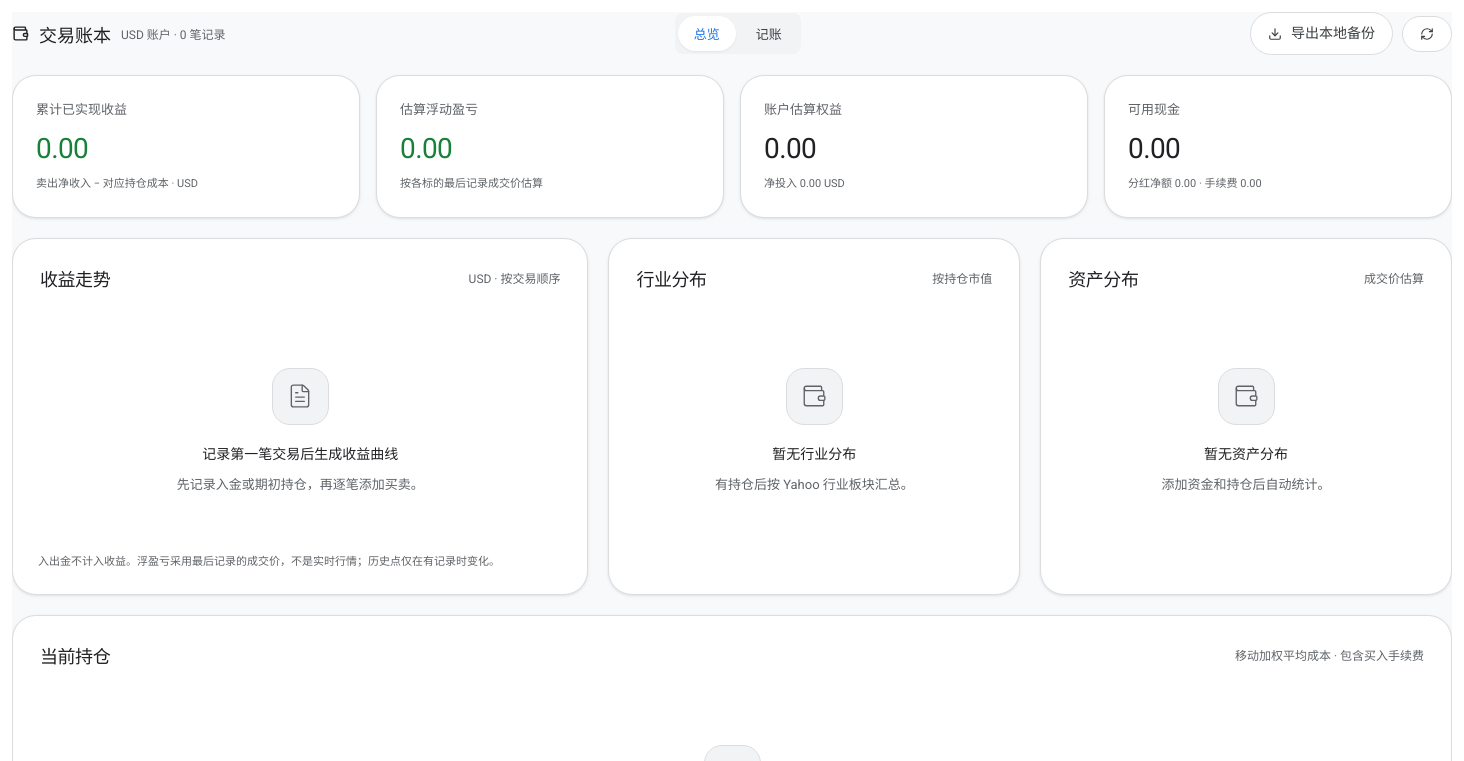
Test case: records a cash deposit and immediately displays its journal and chart
The image size is (1464, 761).
Step 1. Click the tab "记账" → {"x": 769, "y": 34}, box x1=740 y1=16 x2=798 y2=51
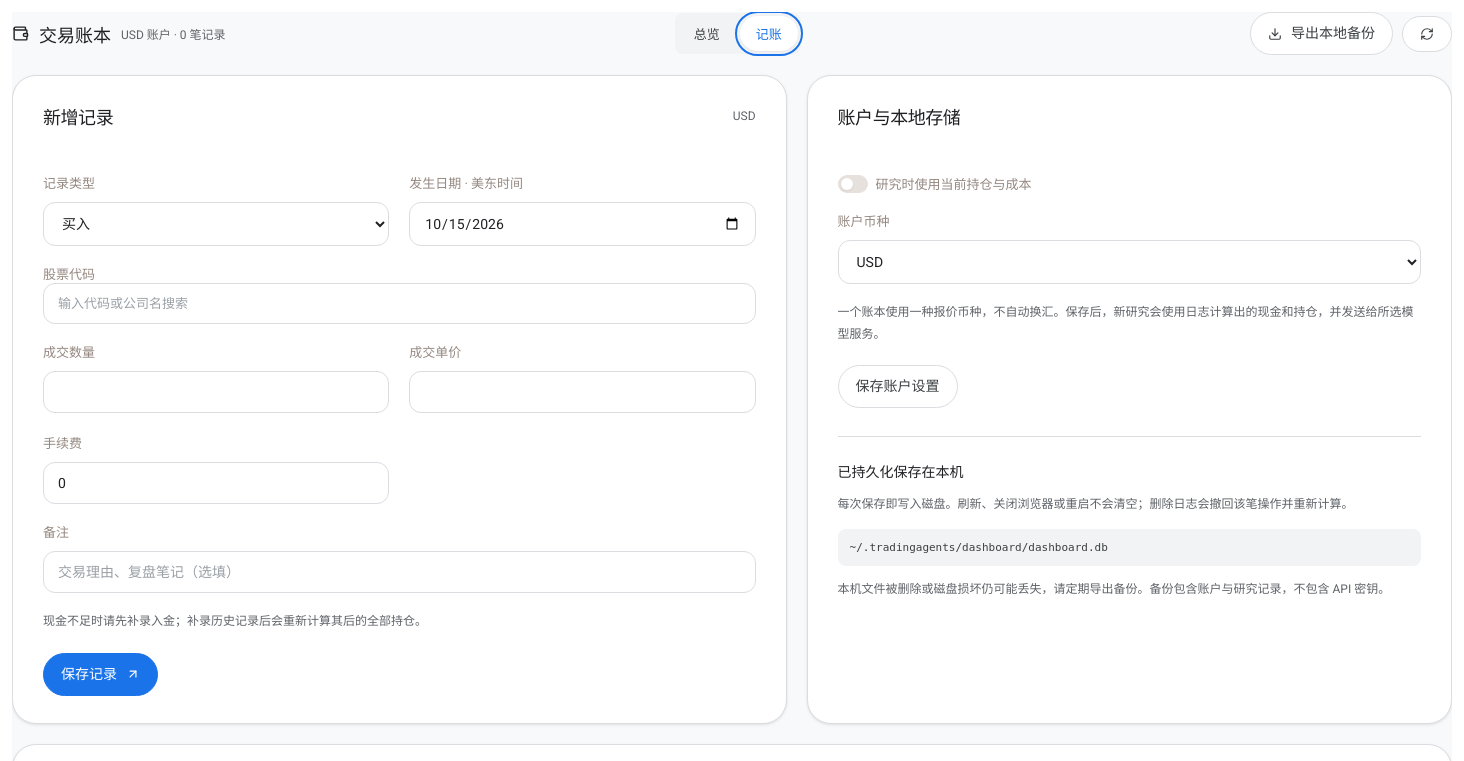
Step 2. Select "入金" in the dropdown labelled "记录类型" → {"x": 216, "y": 224}, box x1=43 y1=202 x2=389 y2=246
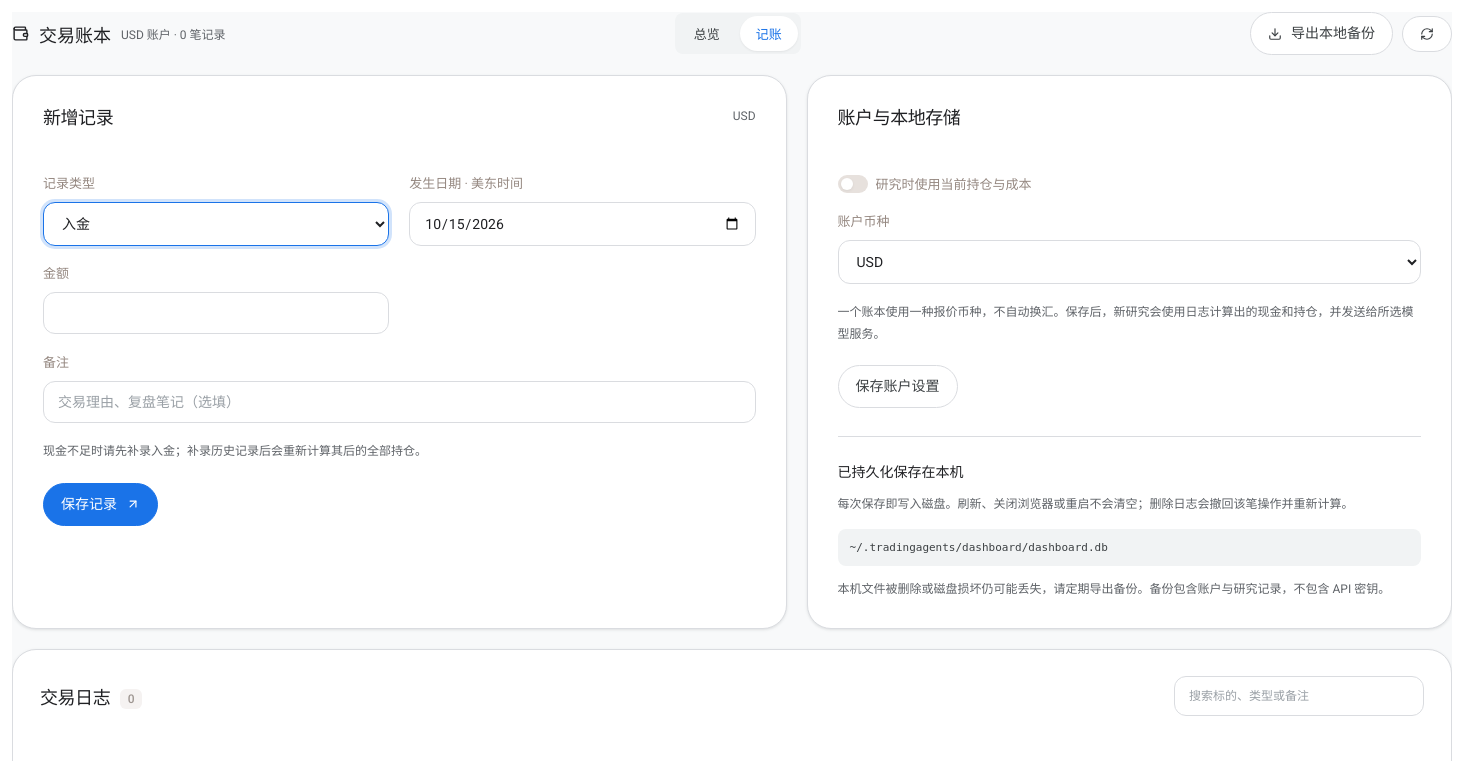
Step 3. Type "1000" into the number field labelled "金额" → {"x": 216, "y": 313}, box x1=43 y1=292 x2=389 y2=334
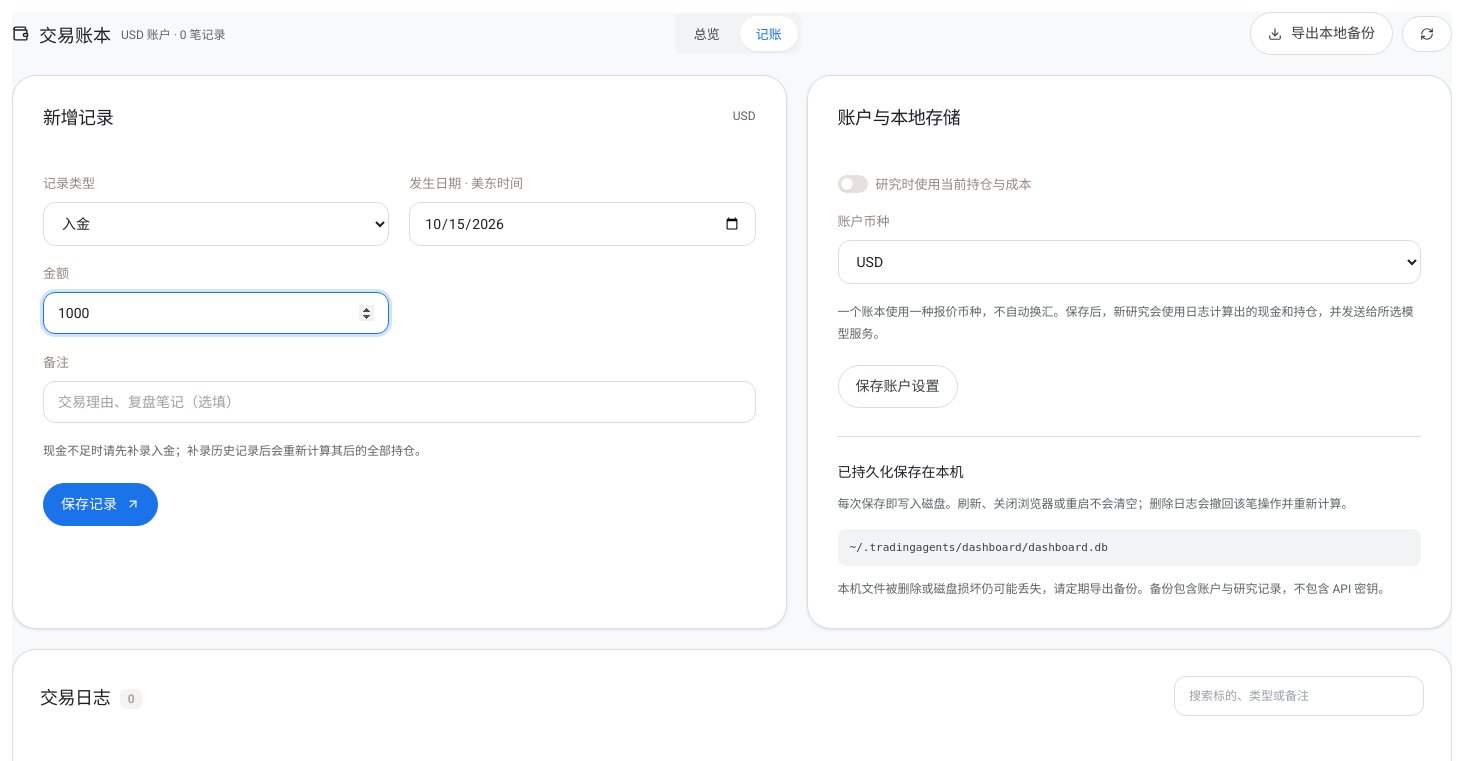
Step 4. Click the button "保存记录" → {"x": 100, "y": 504}, box x1=43 y1=483 x2=158 y2=526
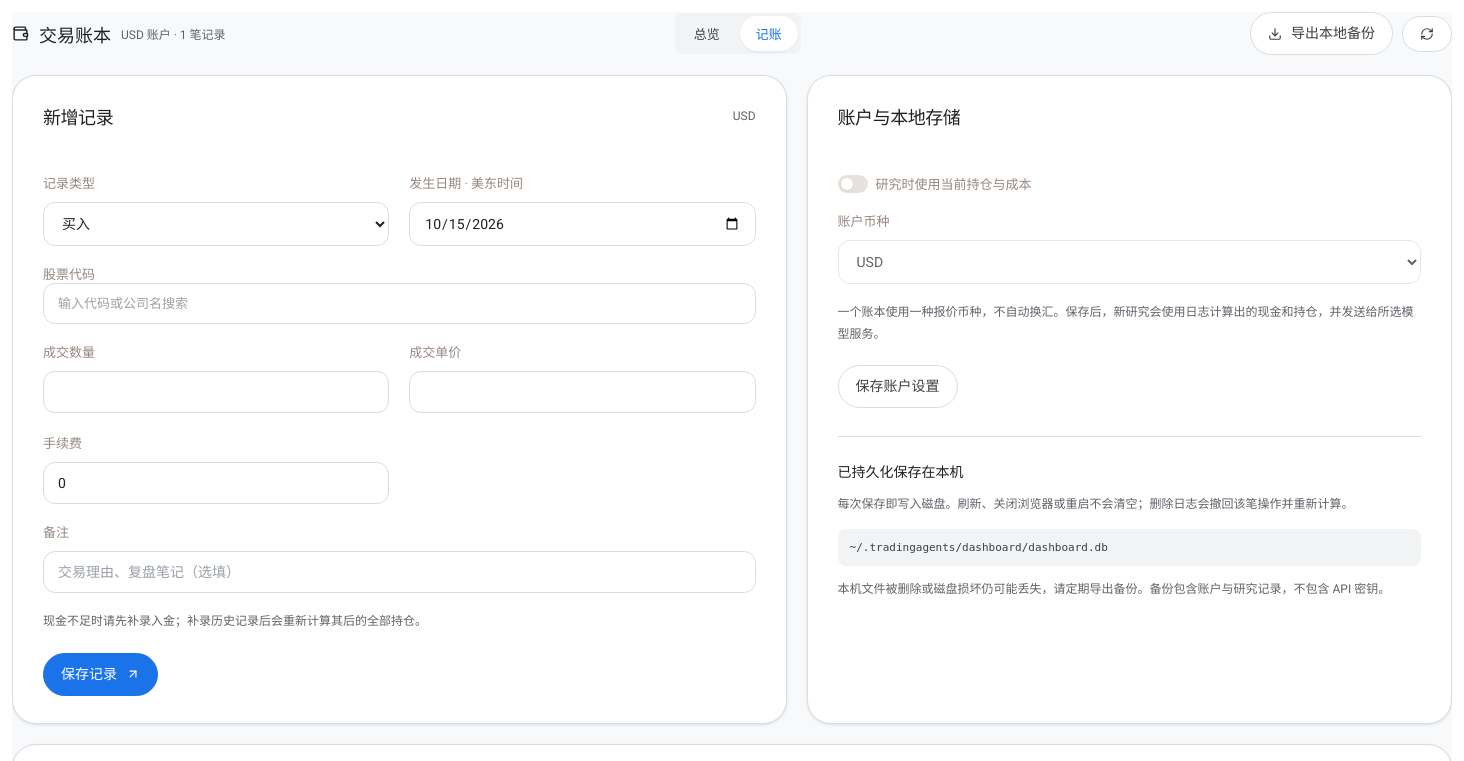
Step 5. Click the tab "总览" → {"x": 707, "y": 34}, box x1=678 y1=16 x2=736 y2=51
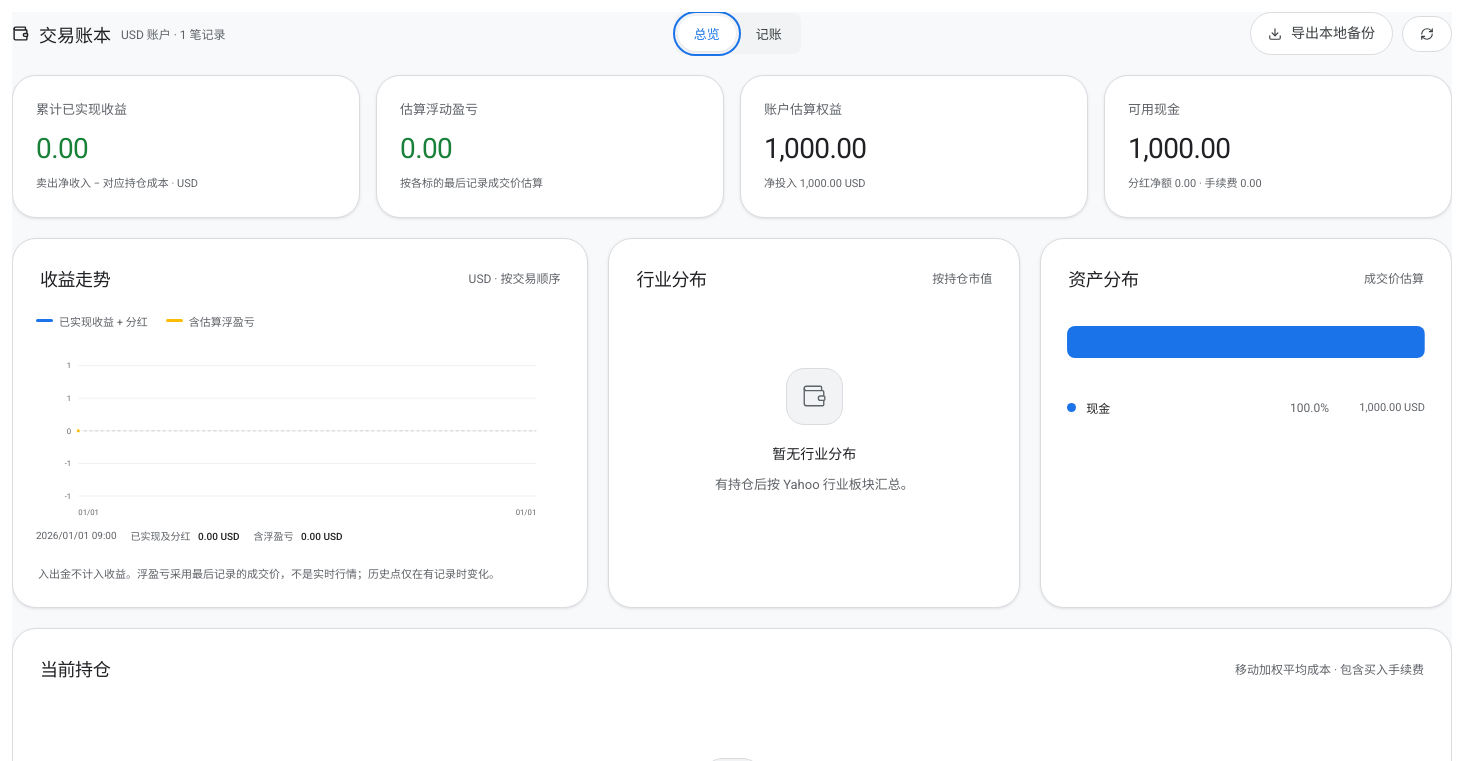
Expected: the picture named "交易记录收益曲线" is shown, x1=36 y1=341 x2=564 y2=520
